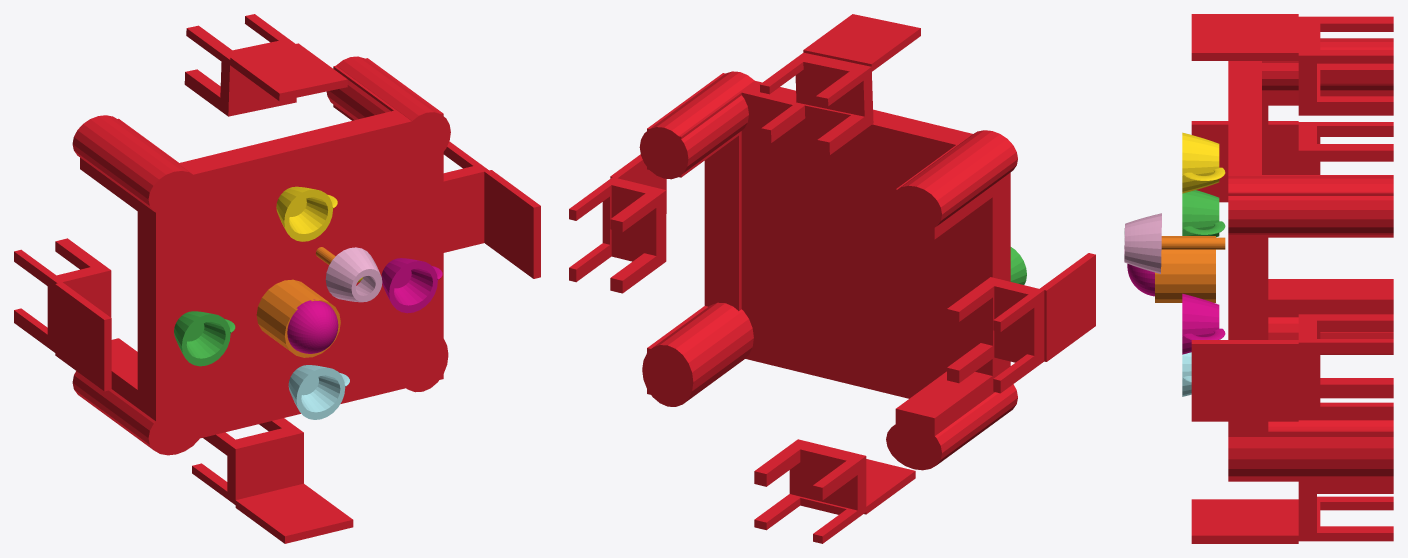
Rendered from tinker.obj.
3 views of the same model, side by side, from view 1: azimuth 30°, elevation 25°; view 2: azimuth 150°, elevation 25°; view 3: azimuth 270°, elevation 25° (orthographic). The views are drawn at different scales.
Parts seen in each view (by area): view 1: group_0_15277357, group_0_14093196, group_0_16089887, group_0_16768282, group_0_4634441, group_0_11593967, group_0_15708628; view 2: group_0_15277357; view 3: group_0_15277357, group_0_16089887, group_0_14093196, group_0_16768282, group_0_15708628, group_0_4634441, group_0_11593967.
Part boxes in pixels (box(x1,y1,x2,y2)): group_0_15277357: box(14, 14, 540, 543); group_0_14093196: box(287, 258, 442, 353); group_0_16089887: box(256, 247, 340, 357); group_0_16768282: box(276, 186, 363, 282); group_0_4634441: box(174, 311, 235, 366); group_0_11593967: box(288, 365, 349, 419); group_0_15708628: box(325, 247, 382, 302); group_0_15277357: box(569, 14, 1095, 543); group_0_15277357: box(1191, 14, 1393, 543); group_0_16089887: box(1155, 236, 1225, 302); group_0_14093196: box(1127, 264, 1225, 354); group_0_16768282: box(1182, 132, 1225, 193); group_0_15708628: box(1124, 213, 1161, 273); group_0_4634441: box(1182, 190, 1225, 237); group_0_11593967: box(1182, 352, 1191, 396).
Size of the model in its own units: 179 by 177 by 88.
